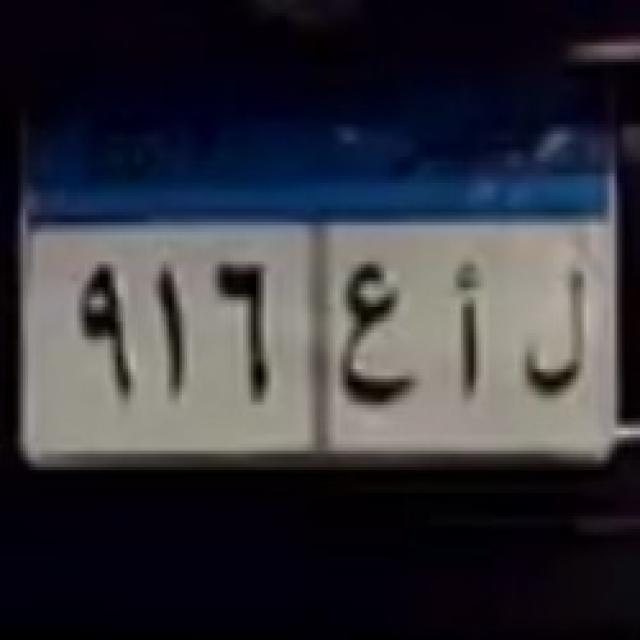1: (153, 258, 207, 404)
6: (207, 254, 285, 409)
9: (74, 248, 140, 412)
Een: (330, 257, 416, 420)
Laam: (516, 261, 598, 409)
alef: (440, 251, 498, 415)
